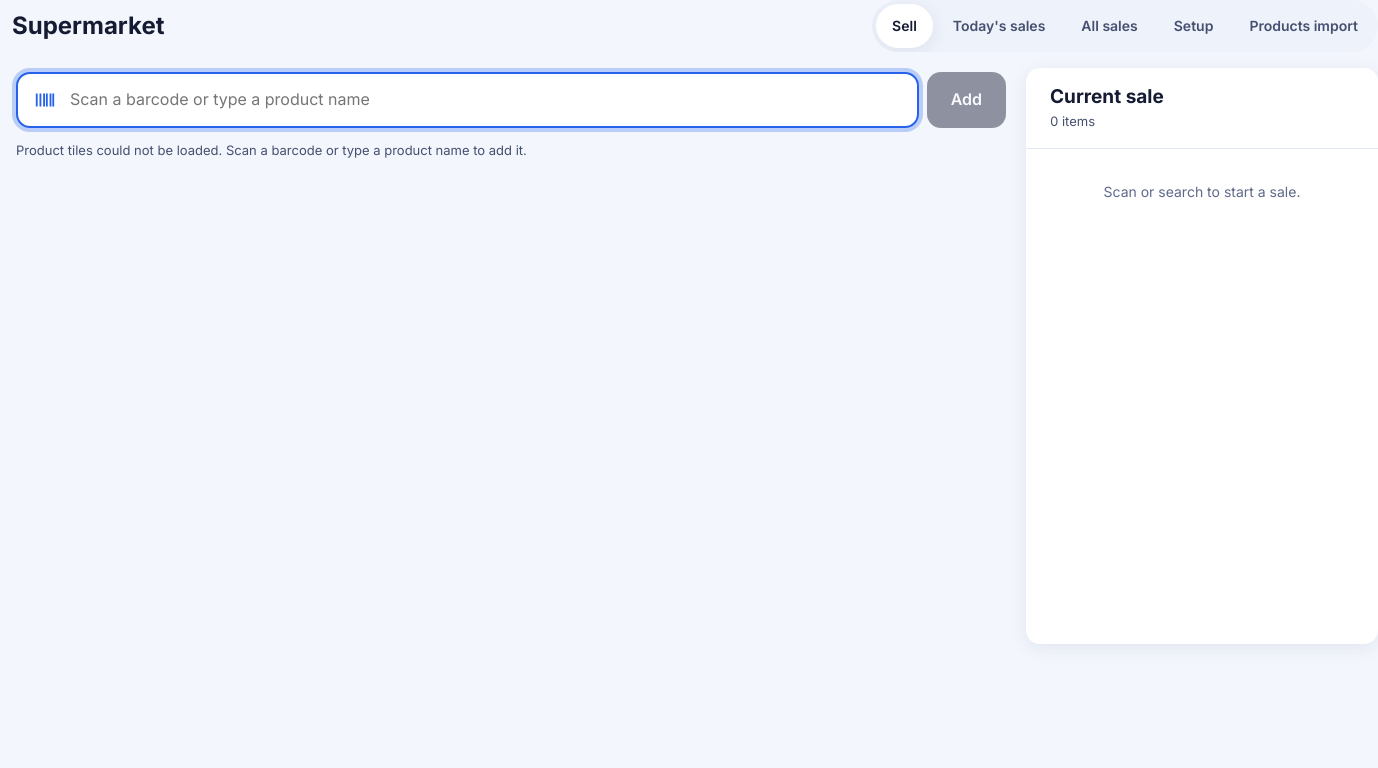
<SupermarketScreen> › sales reports: date range and totals › All sales defaults to the business date, shows the total, the count and the voided count from the server
What coordinates should you click on to do the following:
click the tab "All sales"
I would click on:
 (1110, 26)
Its box is [1065,4,1154,48].
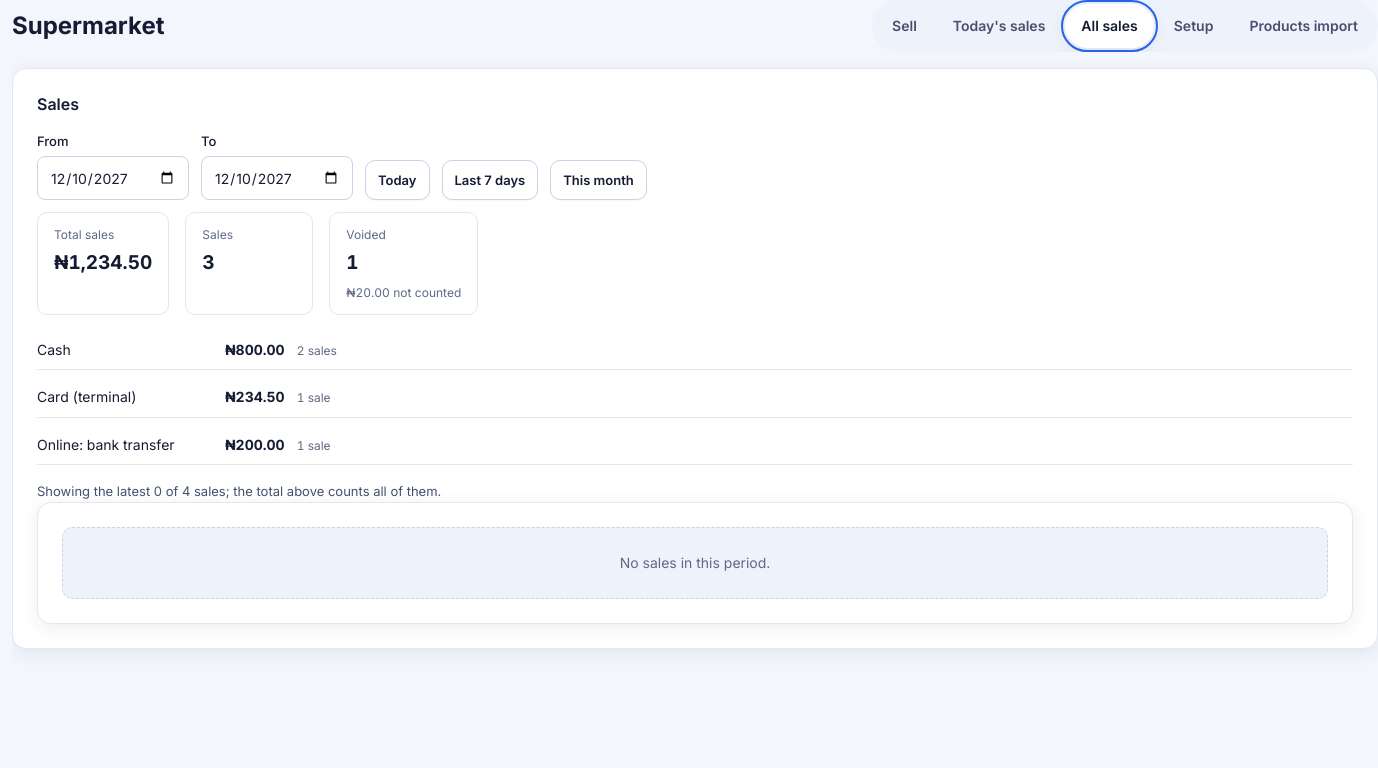
Expected: the text "₦1,234.50" is shown, [54,251,152,274]
Expected: the text "3" is shown, [202,251,215,274]
Expected: the text "1" is shown, [346,251,359,274]
